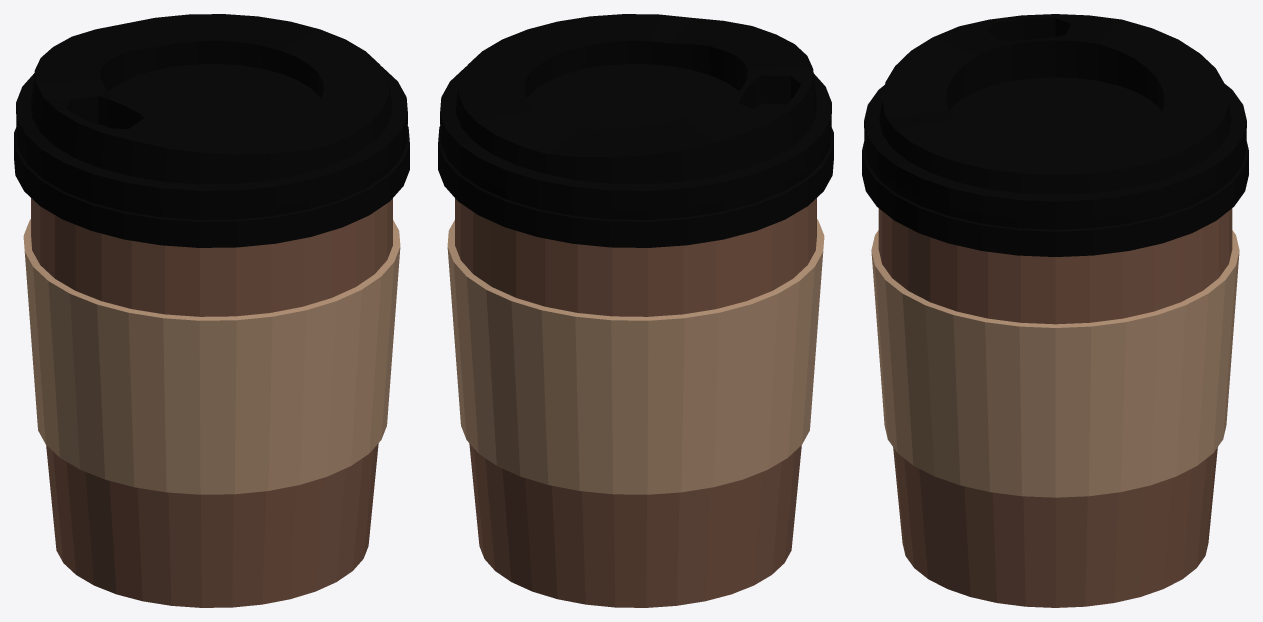
File: coffeeMug.glb
3 renders of one model, left to right at view 1: azimuth 30°, elevation 25°; view 2: azimuth 150°, elevation 25°; view 3: azimuth 270°, elevation 25°, orthographic. The views are drawn at different scales.
Visible parts, largest first — view 1: CoffeeMug; view 2: CoffeeMug; view 3: CoffeeMug.
Part boxes in pixels (x1,y1,x2,y2): CoffeeMug: (14, 14, 409, 607); CoffeeMug: (438, 14, 833, 607); CoffeeMug: (862, 14, 1248, 607).
Bounding box in the file's own units: 2.35 × 3.07 × 2.35.
